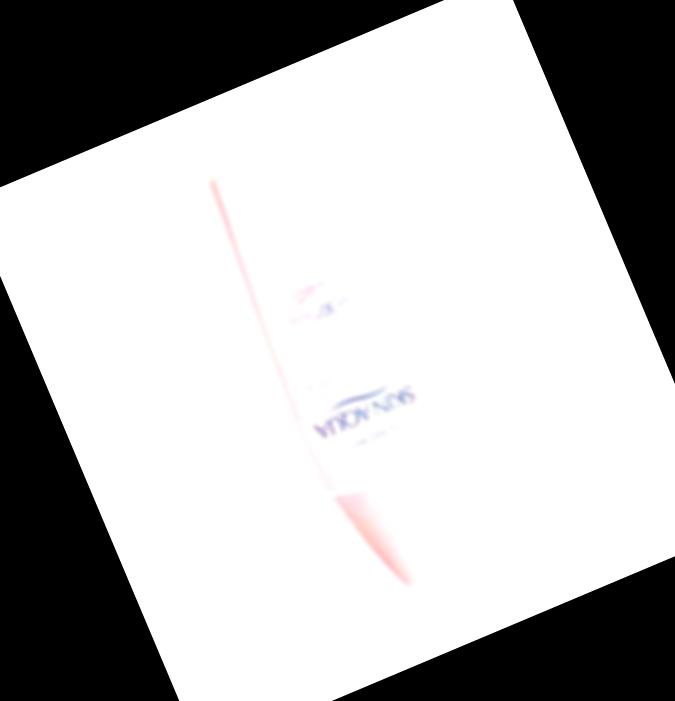cosmetic: (192, 122, 498, 608)
